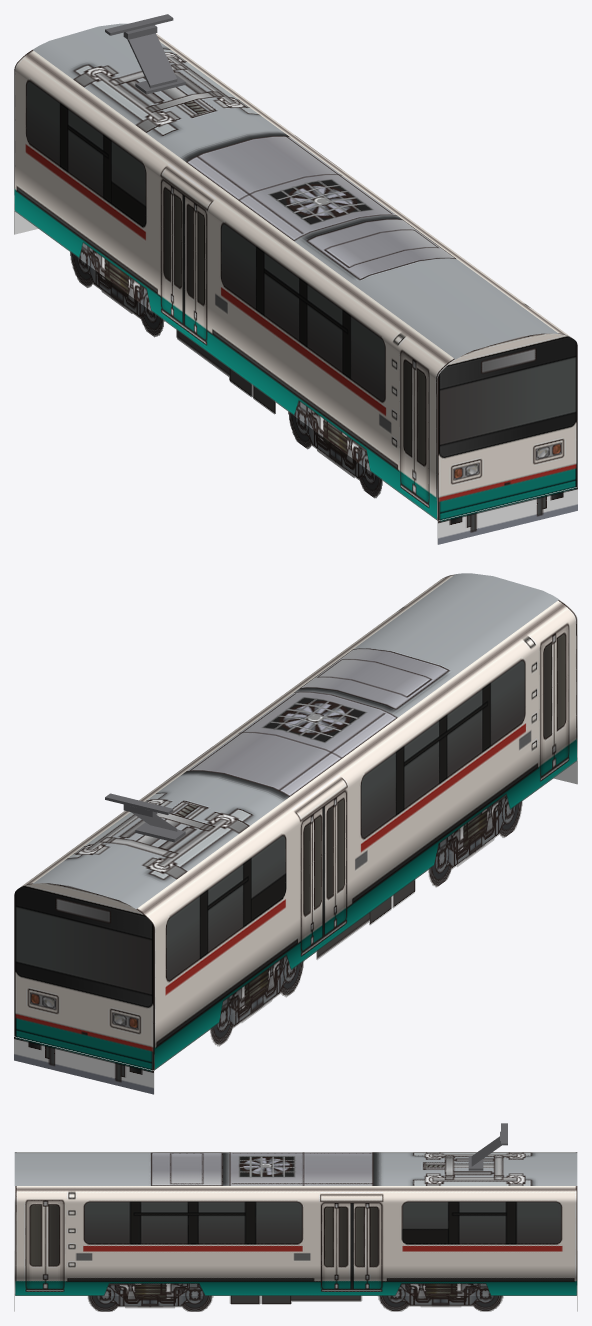
The model's file is car1.glb.
3 views of the same model, one above another, from view 1: azimuth 30°, elevation 25°; view 2: azimuth 150°, elevation 25°; view 3: azimuth 270°, elevation 25° (orthographic). The views are drawn at different scales.
Visible parts, largest first — view 1: car1; view 2: car1; view 3: car1.
Boxes of the visible parts, x1,y1,x2,y2 form: car1: (14, 14, 577, 544); car1: (14, 573, 577, 1094); car1: (14, 1123, 577, 1311).
Bounding box in the file's own units: 2.49 × 3.98 × 13.08.
6 materials, 5 textured.
